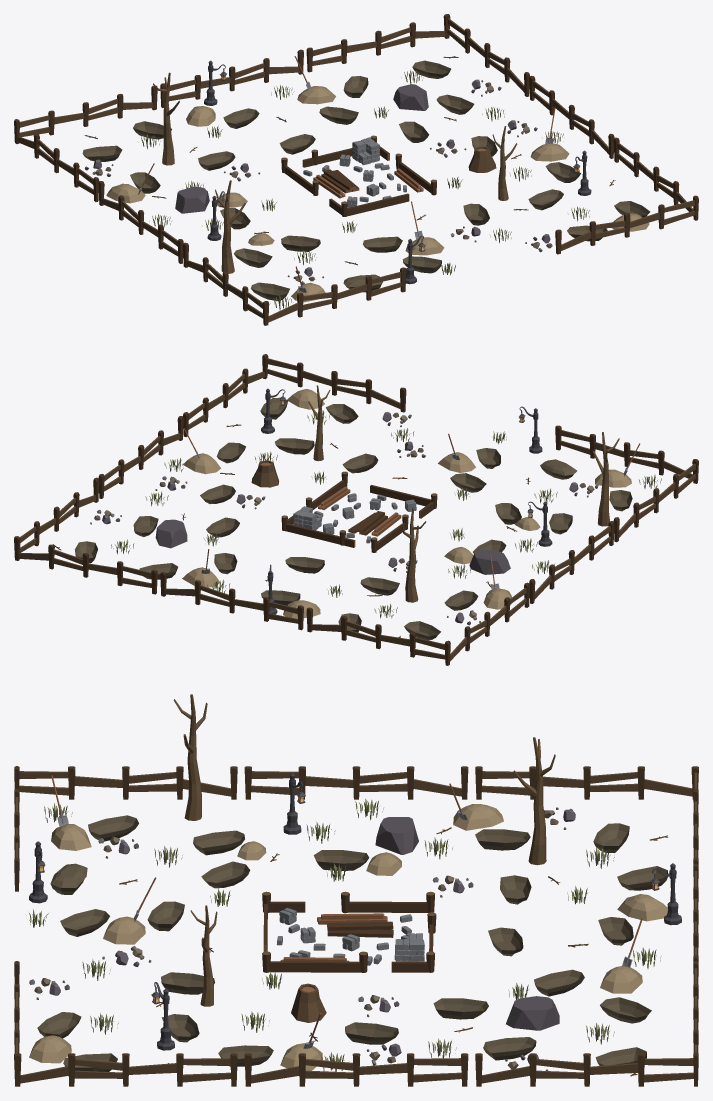
The model's file is Building_Graveyard_Square st1.fbx.
3 renders of one model, top to bottom at view 1: azimuth 30°, elevation 25°; view 2: azimuth 150°, elevation 25°; view 3: azimuth 270°, elevation 25°, orthographic. The views are drawn at different scales.
Parts seen in each view (by area): view 1: Building_Graveyard_Square st1; view 2: Building_Graveyard_Square st1; view 3: Building_Graveyard_Square st1.
Boxes of the visible parts, left/top/right/bottom form: Building_Graveyard_Square st1: left=14, top=14, right=698, bottom=325; Building_Graveyard_Square st1: left=14, top=354, right=698, bottom=665; Building_Graveyard_Square st1: left=14, top=694, right=698, bottom=1086.
Bounding box in the file's own units: 594 × 128 × 594.
